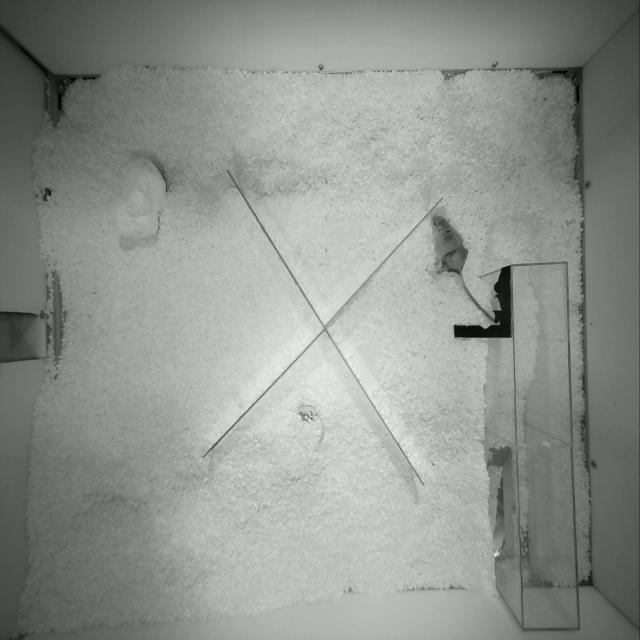adult_back: (431, 215, 496, 321)
